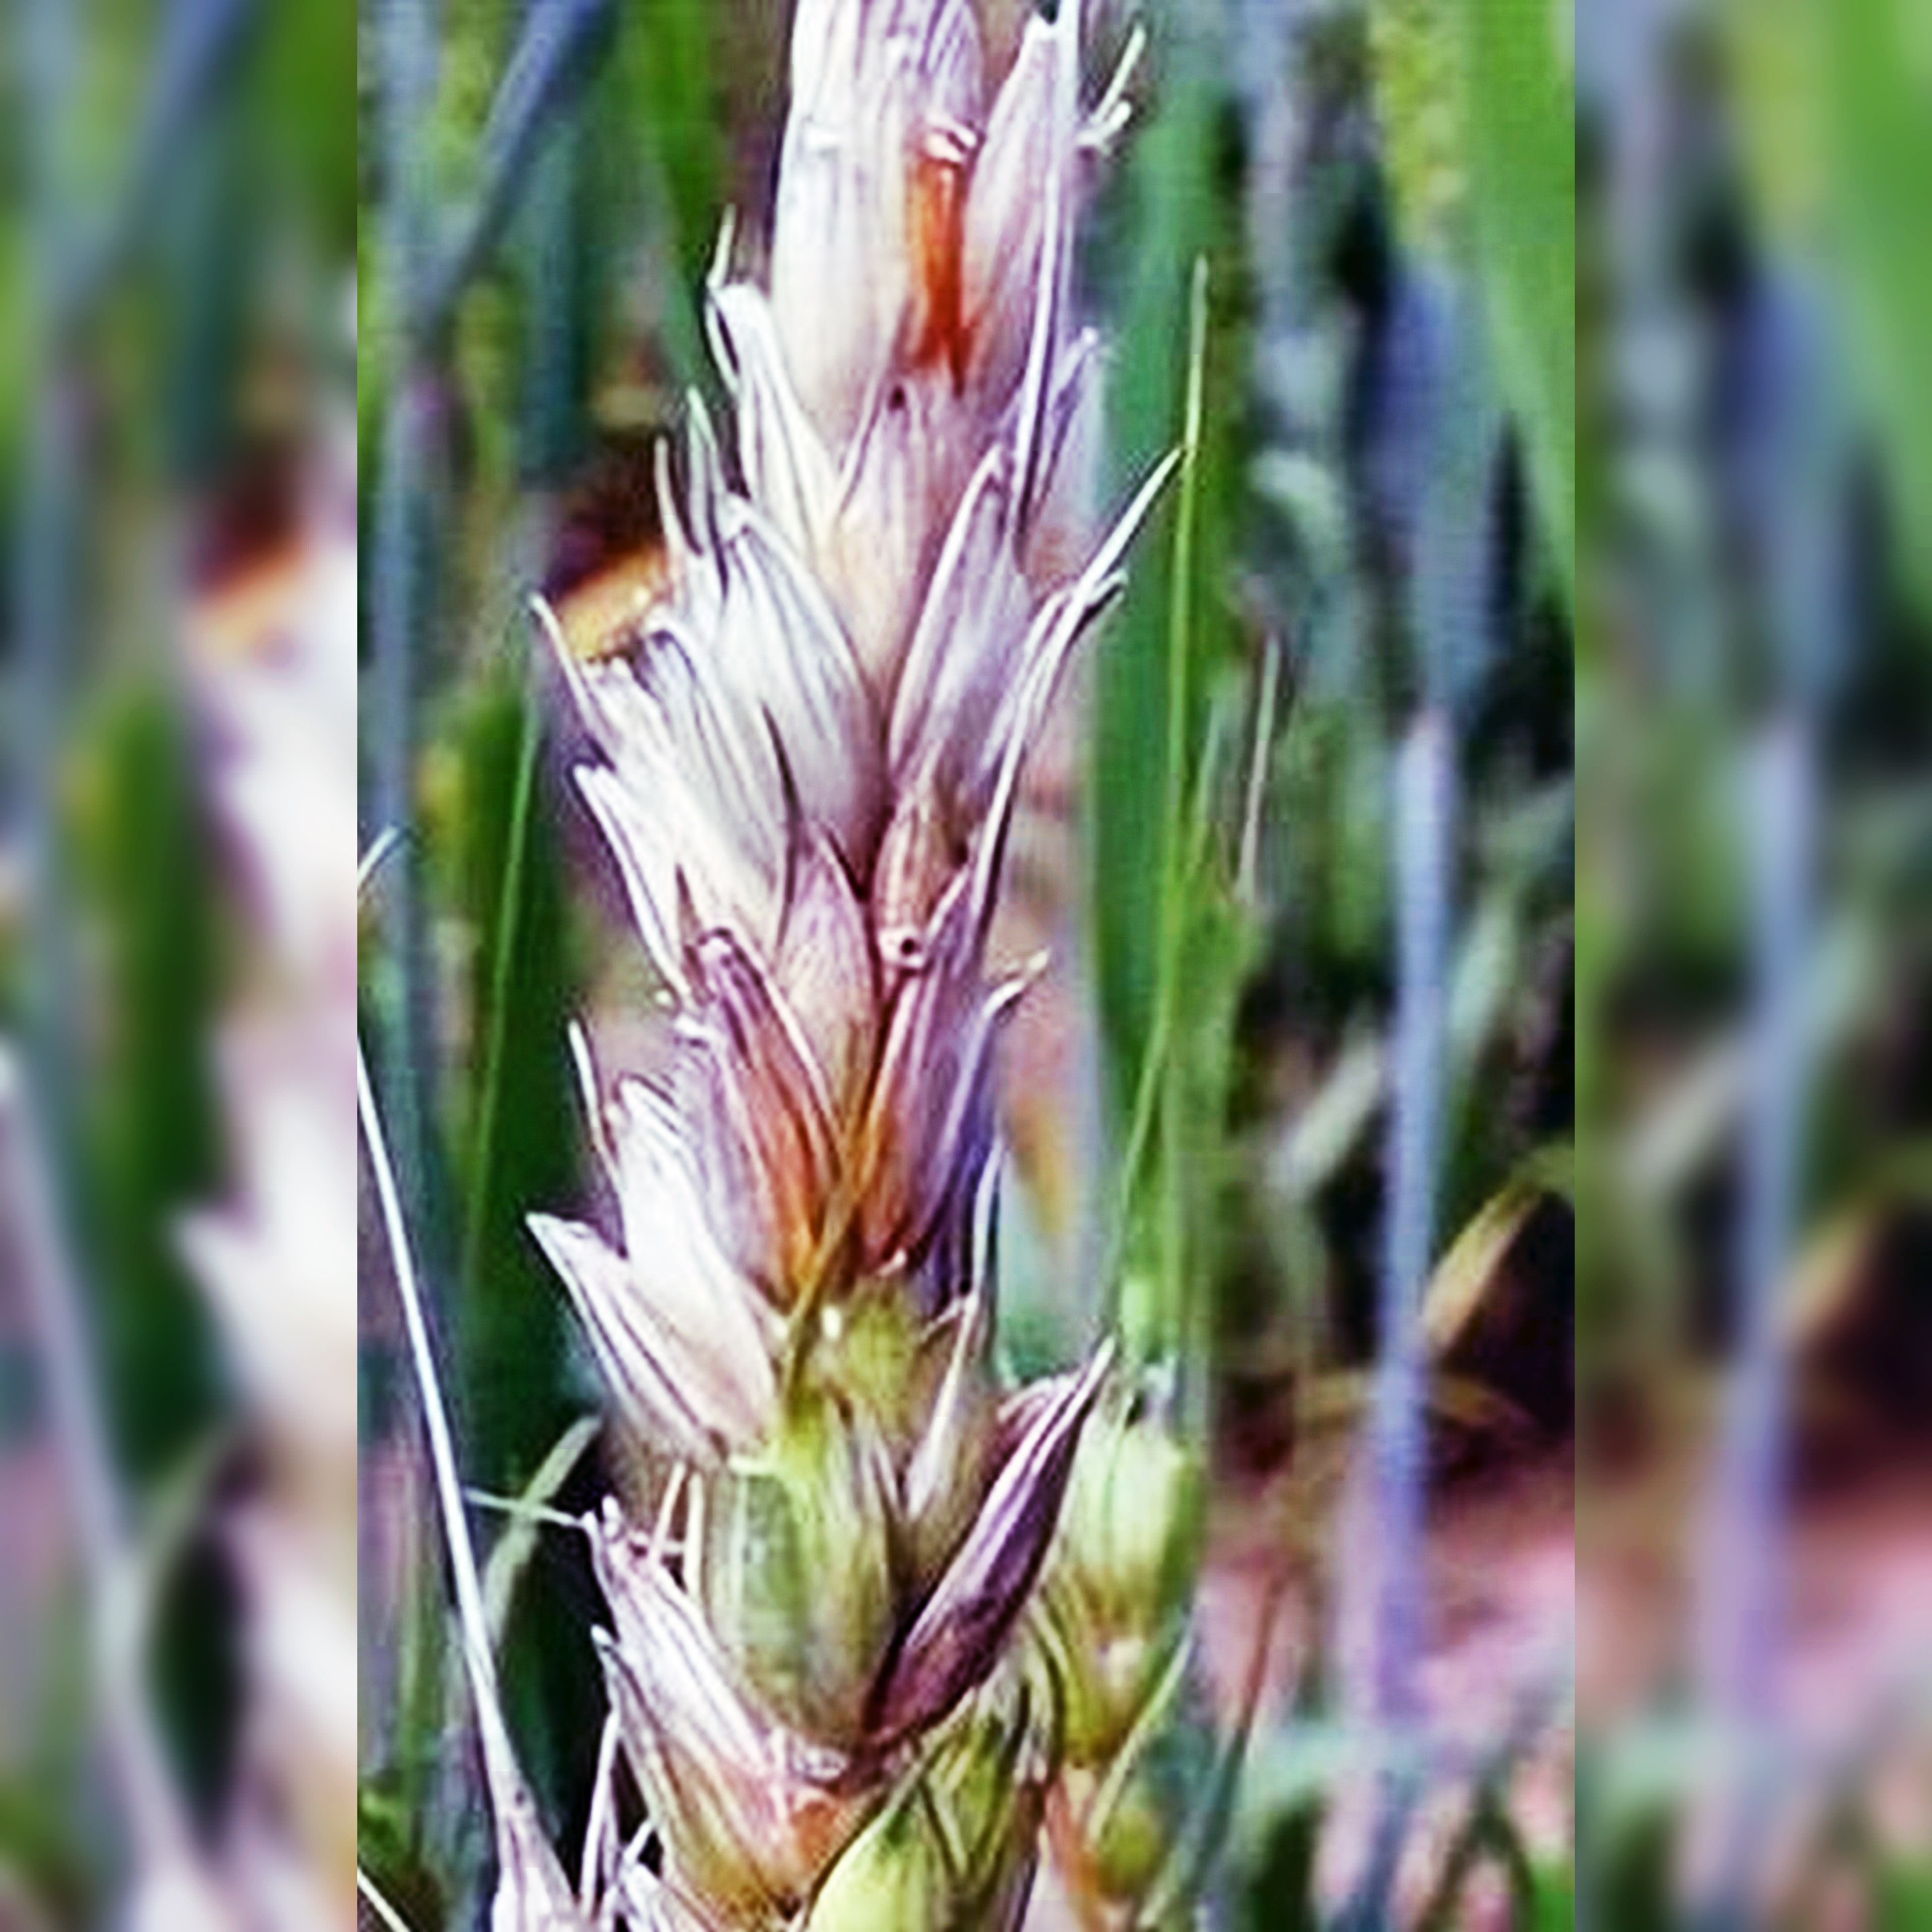Wheat scab: (520, 97, 1026, 1838)
